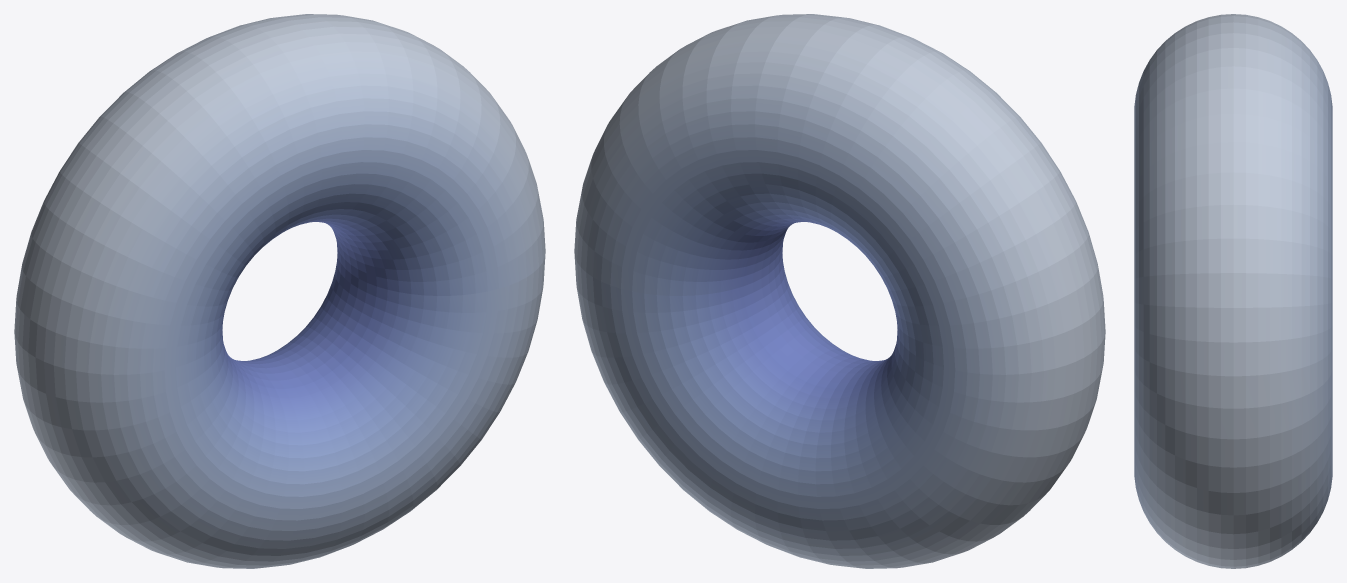
3 renders of one model, left to right at view 1: azimuth 30°, elevation 25°; view 2: azimuth 150°, elevation 25°; view 3: azimuth 270°, elevation 25°, orthographic. The views are drawn at different scales.
Visible parts, largest first — view 1: world; view 2: world; view 3: world.
Boxes of the visible parts, x1,y1,x2,y2 form: world: (14, 14, 545, 568); world: (574, 14, 1105, 568); world: (1134, 14, 1332, 568).
Bounding box in the file's own units: 19.73 × 19.69 × 7.05.
